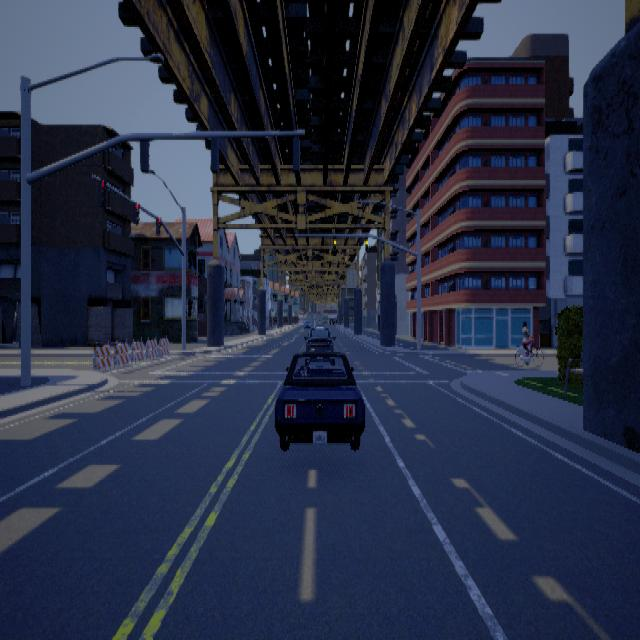bike: (514, 316, 543, 366)
red_light: (97, 178, 105, 206), (132, 200, 139, 224), (155, 216, 161, 234)
vehicle: (274, 320, 364, 450)
yellow_light: (332, 234, 336, 249), (364, 234, 367, 249)
